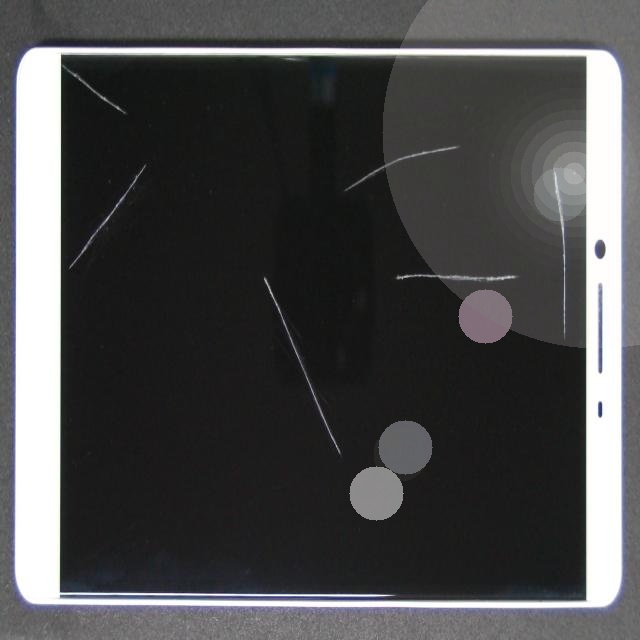scratch: (329, 140, 640, 393)
